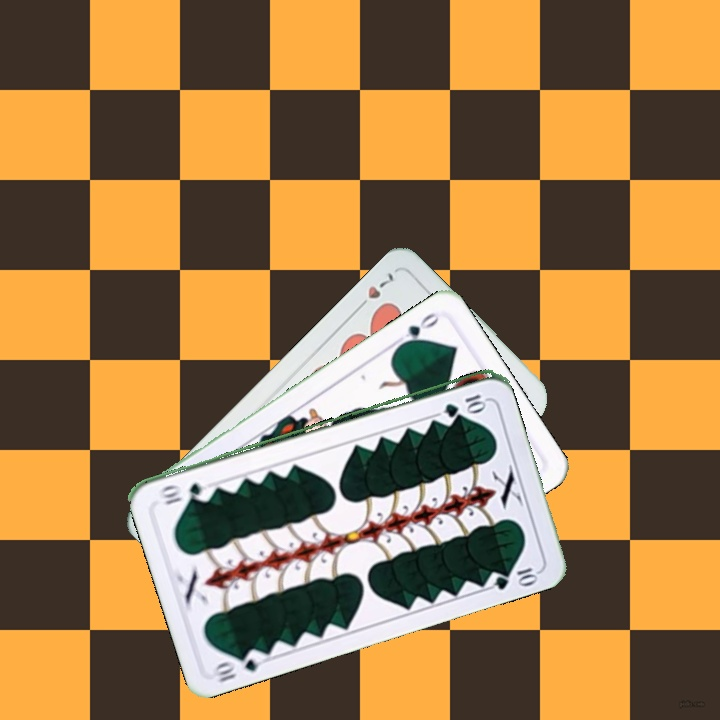G10: (211, 645, 268, 685), (439, 390, 489, 417)
GO: (389, 308, 443, 351)
H7: (352, 268, 396, 314)
